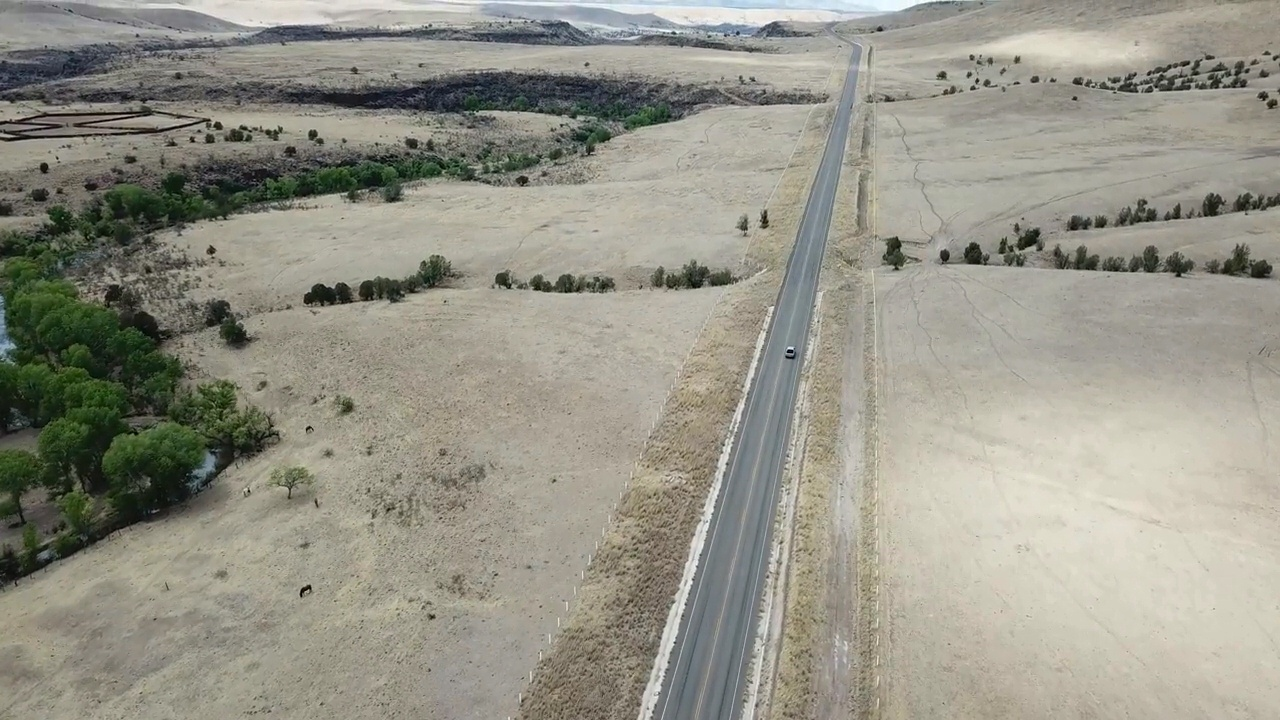araba: (783, 342, 799, 360)
